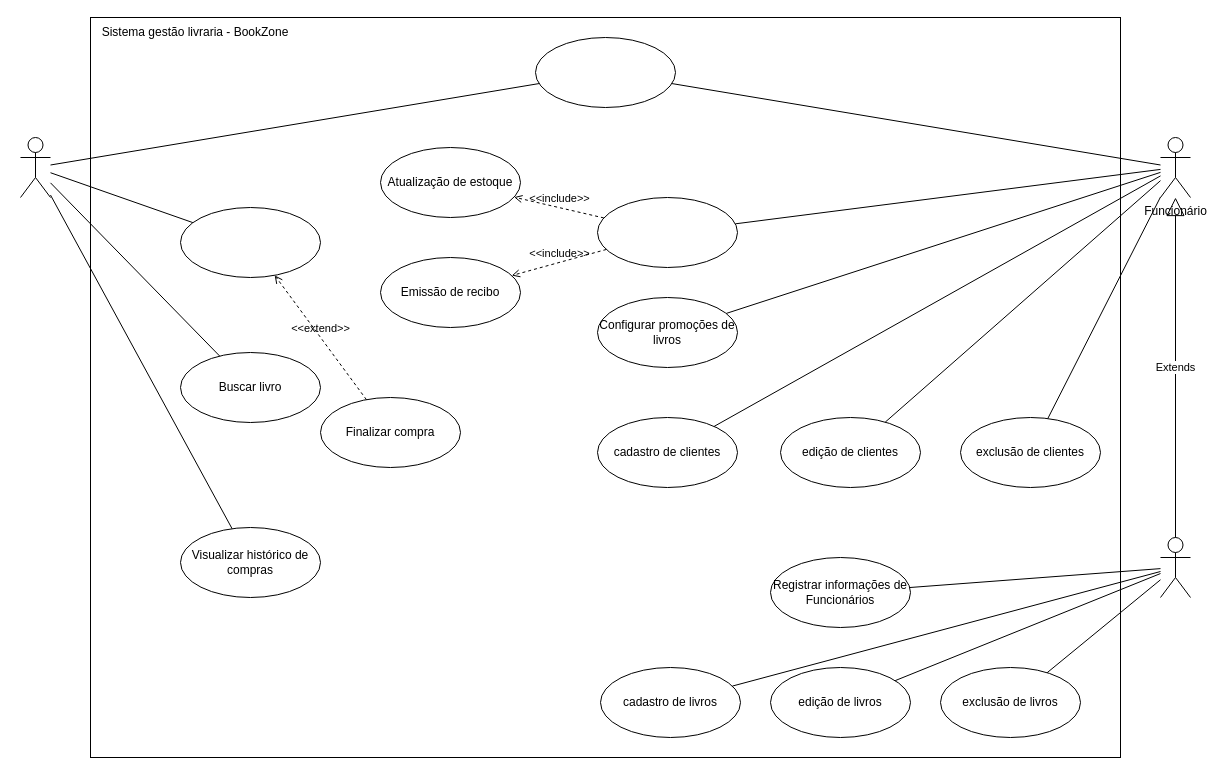
Some shapes in this 1224 by 775 pixel diagram are drawn without their labels. Here are the shapes that lost their labels. From the top down, the centre of each, then its label:
At point (605, 72): "Realizar autenticação".
At point (35, 167): "Cliente".
At point (250, 242): "Adicionar livro ao carrinho".
At point (667, 232): "Registrar Venda".
At point (1175, 567): "Admin".
